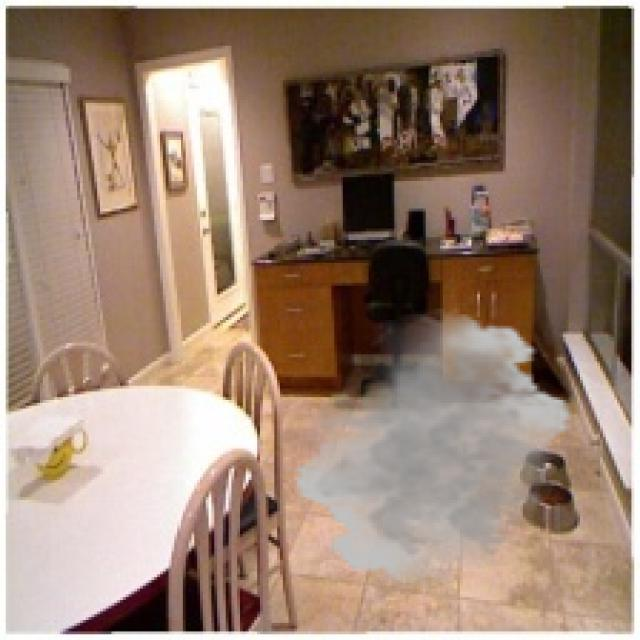smoke: (292, 308, 574, 588)
